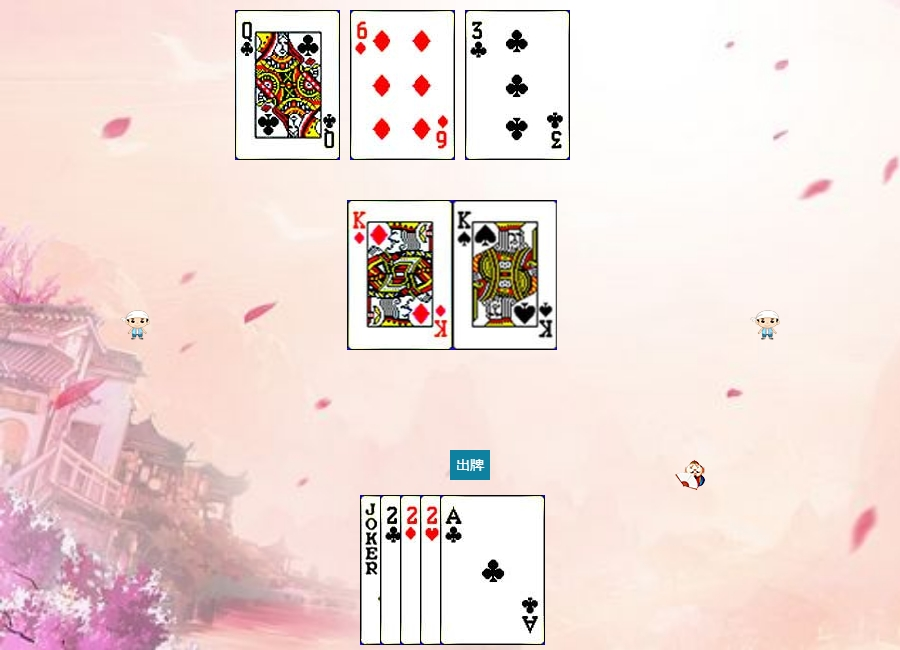12~2: (235, 10, 340, 160)
13~1: (348, 200, 453, 350)
13~4: (453, 200, 558, 350)
14~2: (440, 495, 545, 645)
15~1: (400, 495, 505, 645)
15~2: (380, 495, 485, 645)
15~3: (420, 495, 525, 645)
17~3: (360, 495, 465, 645)
3~2: (465, 10, 570, 160)
6~1: (350, 10, 455, 160)
